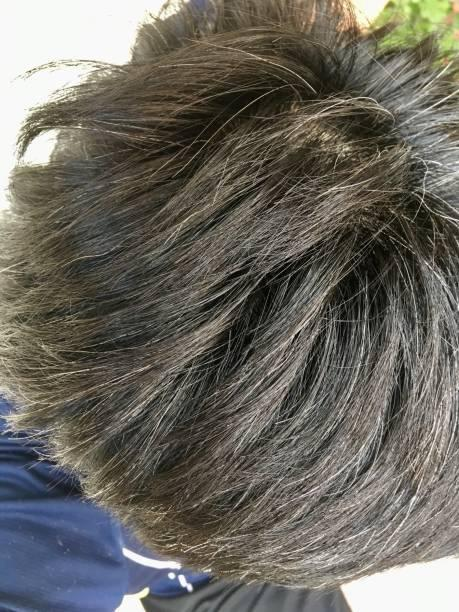grey hair: (182, 28, 319, 92), (92, 117, 194, 157), (407, 150, 432, 248), (291, 90, 407, 110), (414, 88, 459, 118), (213, 153, 233, 208)
